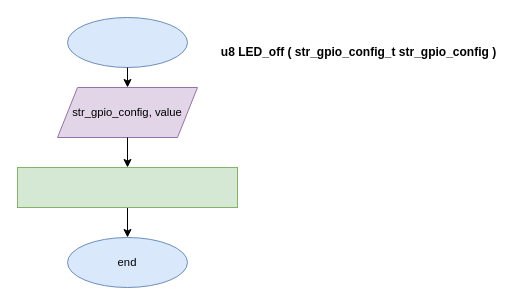
This 513x305 diagram has some shape labels left out. Each missing label, with the centre of its shape:
GPIO_tog(str_gpio_config): point 127,187
start: point 127,42
